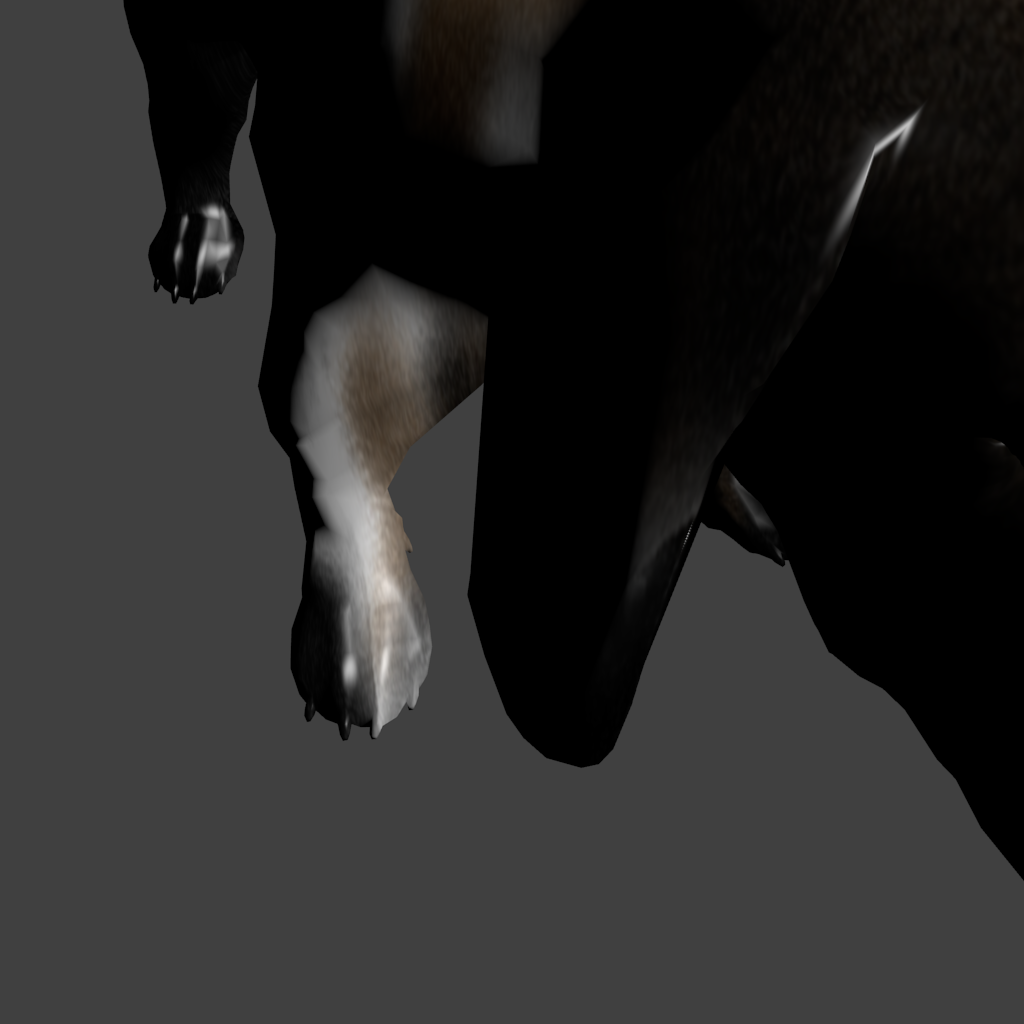Dog: (120, 0, 904, 1024)
